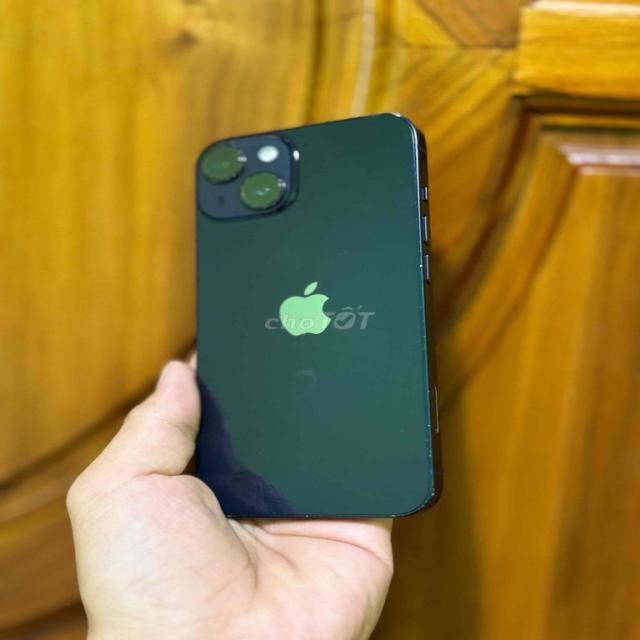gen_14: (178, 103, 440, 529)
scratch: (293, 358, 325, 398)
